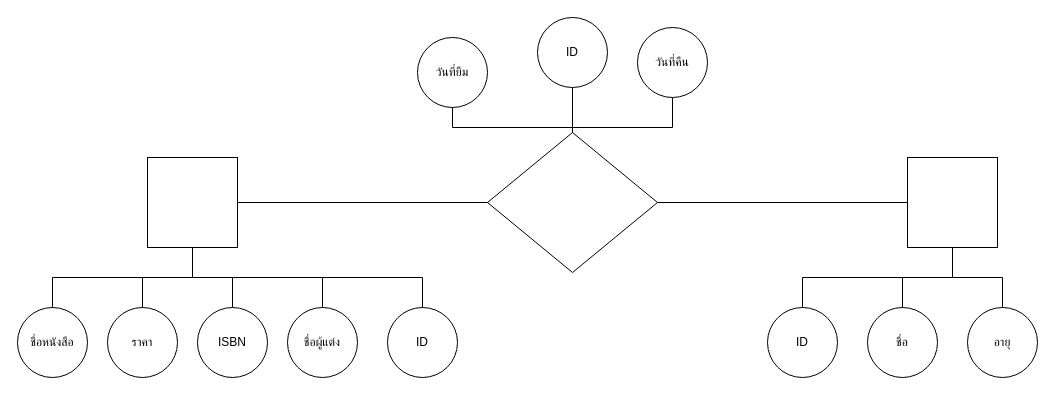
Image size: 1055x395. Some labels were removed from this diagram. The shapes that lost their labels are listed below. From the top down, each one's centre as x and y in pixels, then its label:
the point at 192,202: หนังสือ
the point at 572,202: คืนหนังสือ
the point at 952,202: ผู้ใช้บริการ
